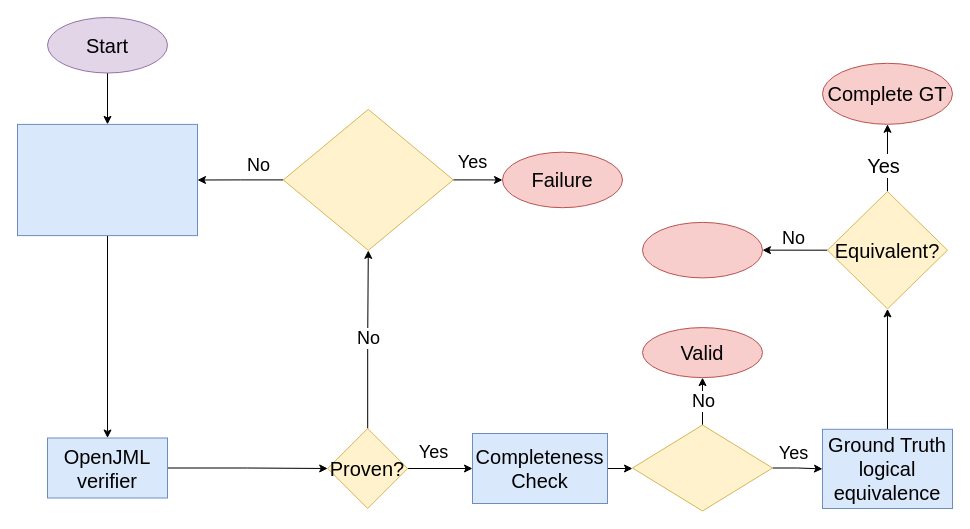
This 970x529 diagram has some shape labels left out. Here are the shapes that lost their labels. From the top down, the centre of each, then its label:
At pixel 107 179: "SpecGen mutation heuristic: selector and mutator".
At pixel 367 179: "Processed all candidates?".
At pixel 702 249: "Complete".
At pixel 702 467: "Complete?".
